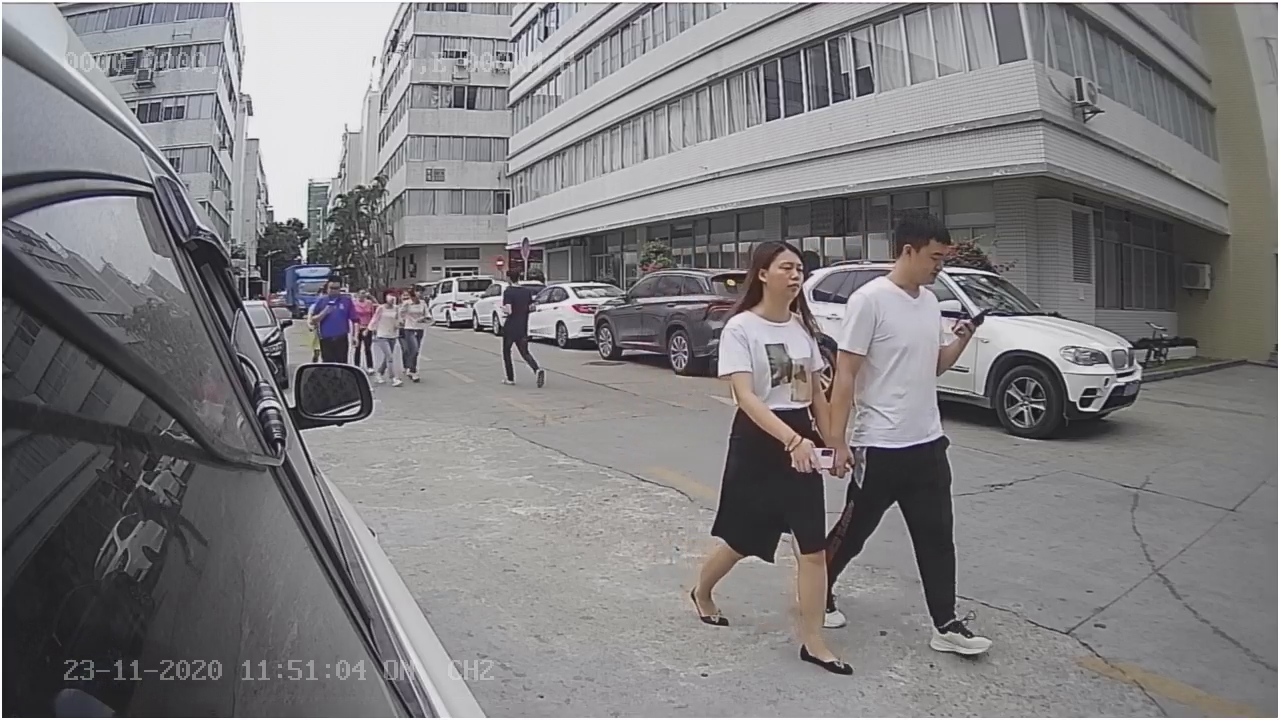person: (689, 233, 860, 677), (488, 270, 549, 389)
